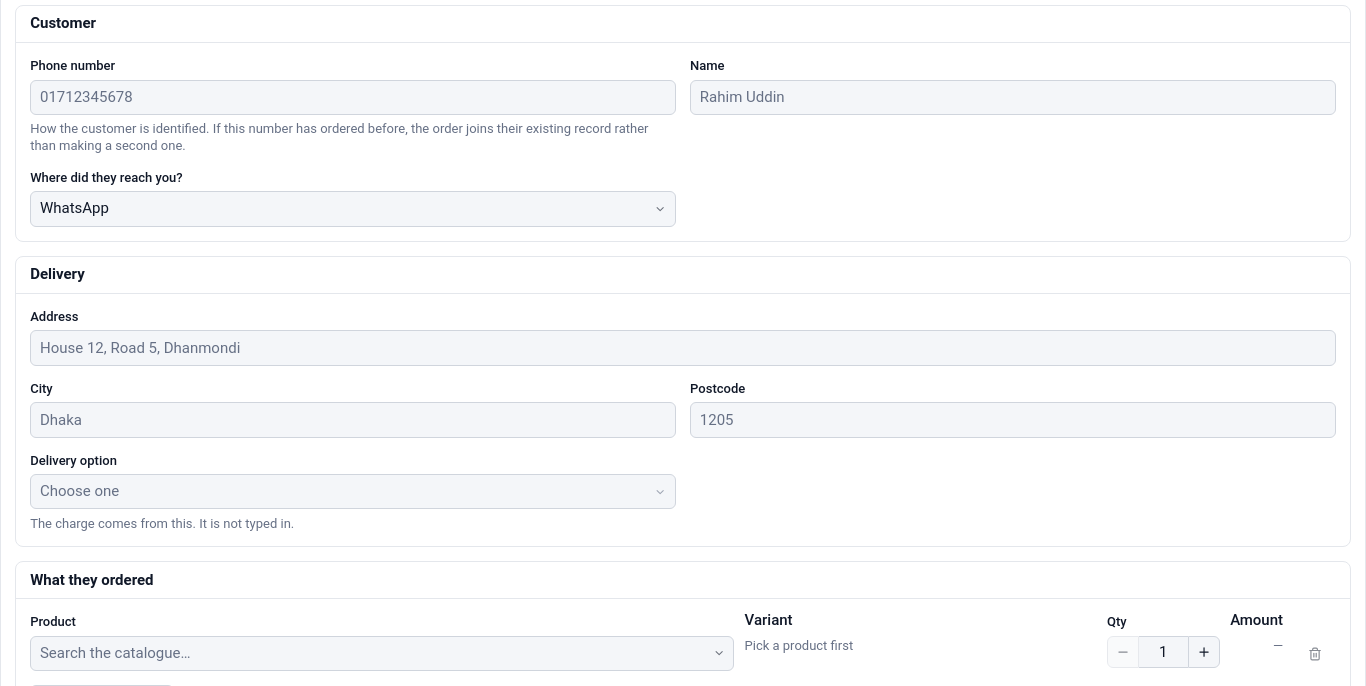
Test: OrderCreatePage — the total is the server's, not the page's › renders the quoted figures rather than computing them
Click the dropdown named "product for line 1": click(115, 653) [30,636,734,671]
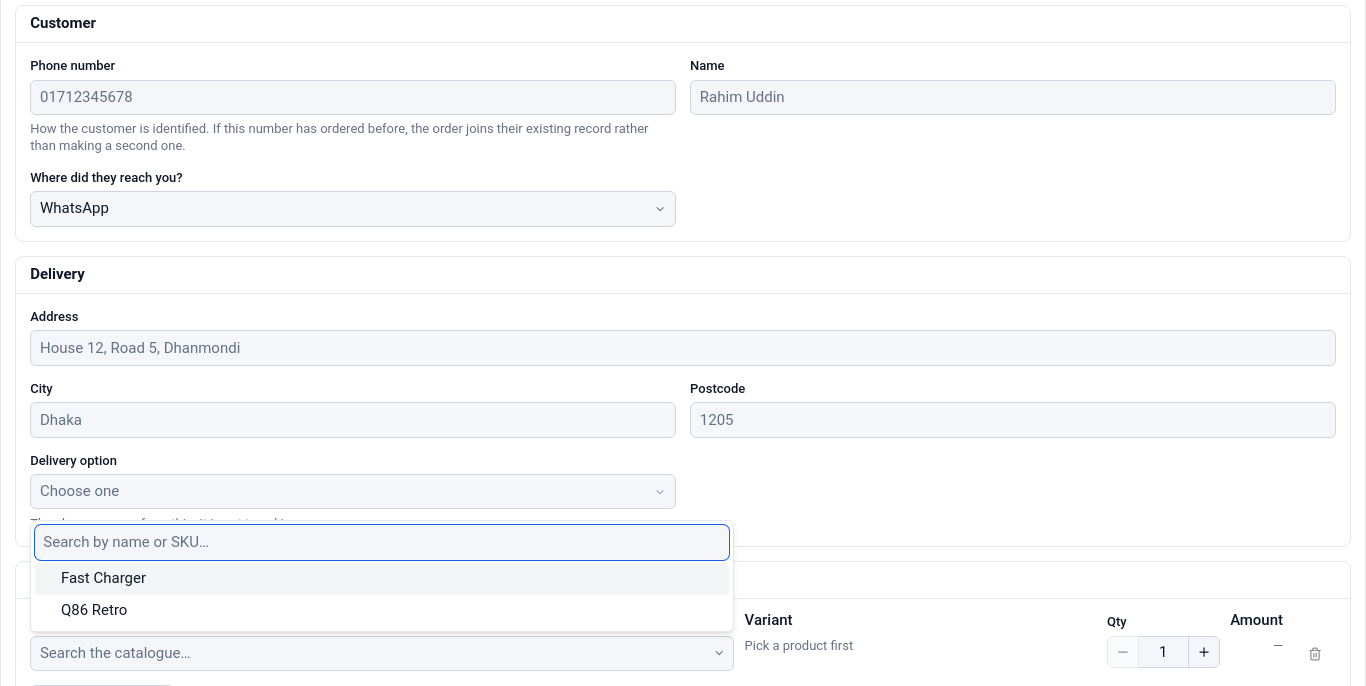
Click the option "Fast Charger": click(103, 578) [34,563,729,595]
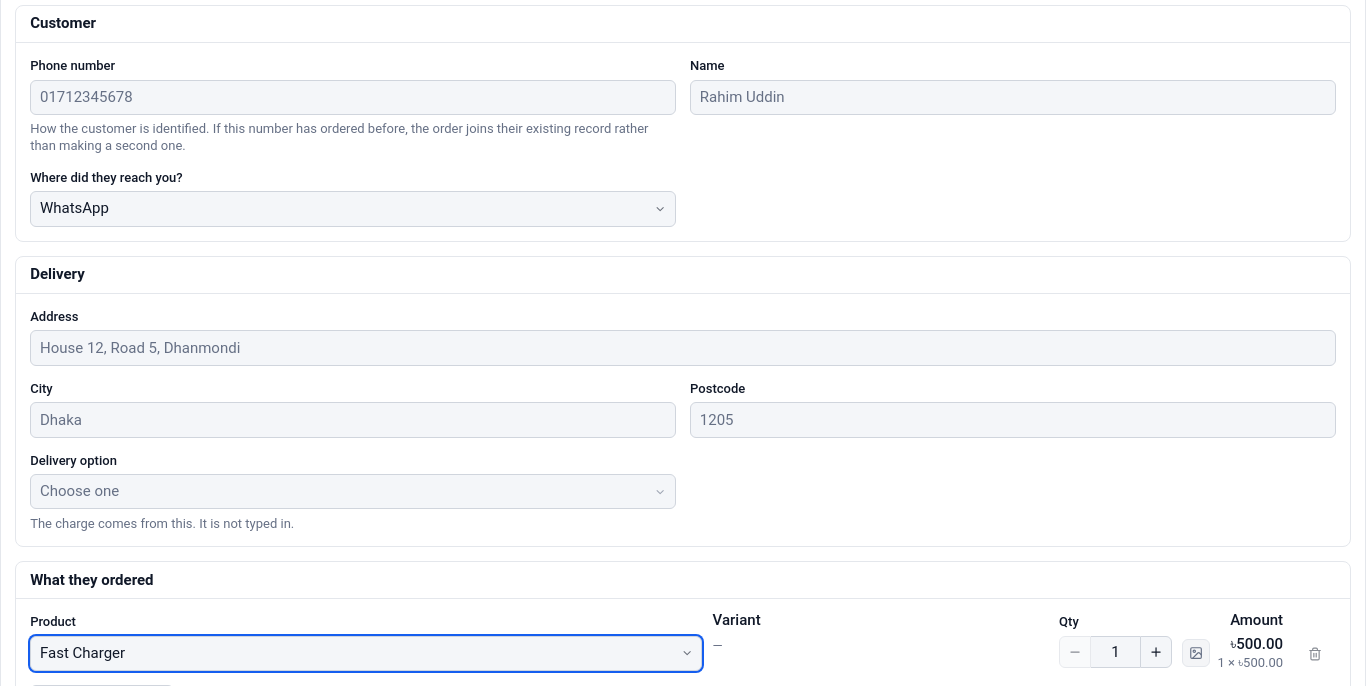
Click the dropdown named "delivery option": click(80, 491) [30,474,676,509]
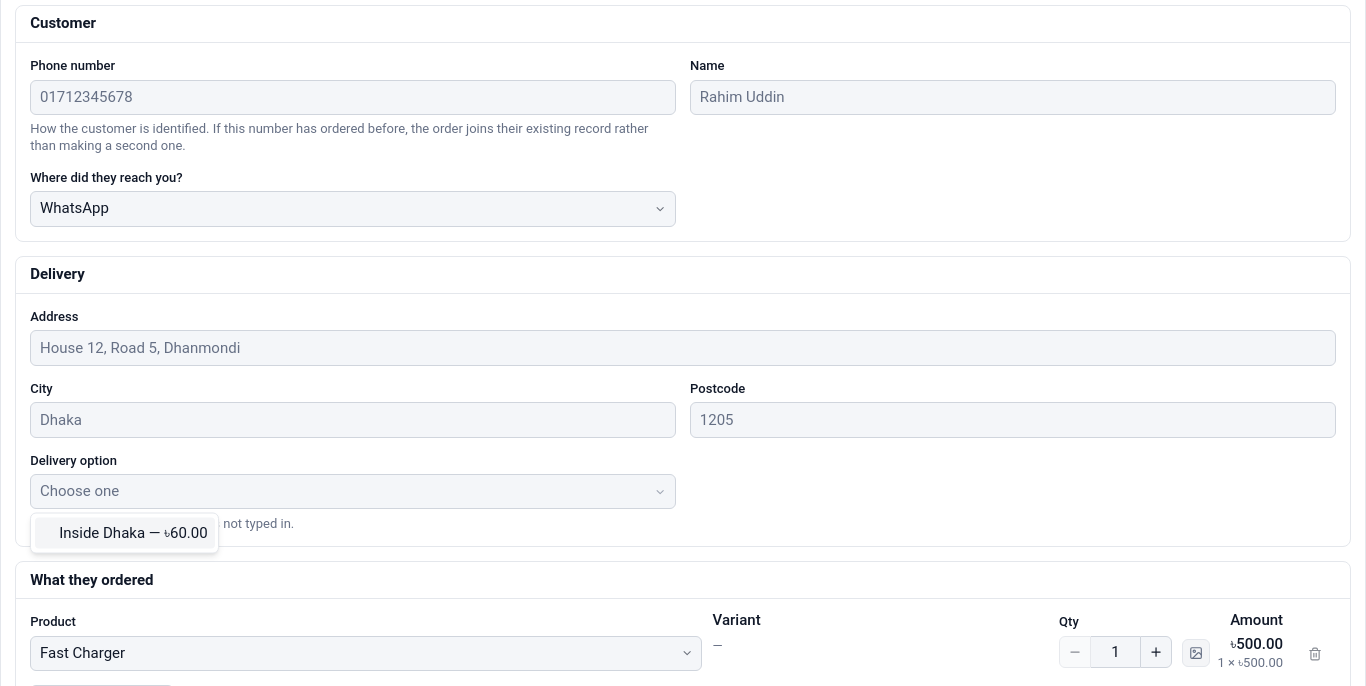
Click the option "Inside Dhaka — ৳60.00": click(125, 533) [34,517,215,549]
(page scrolled)
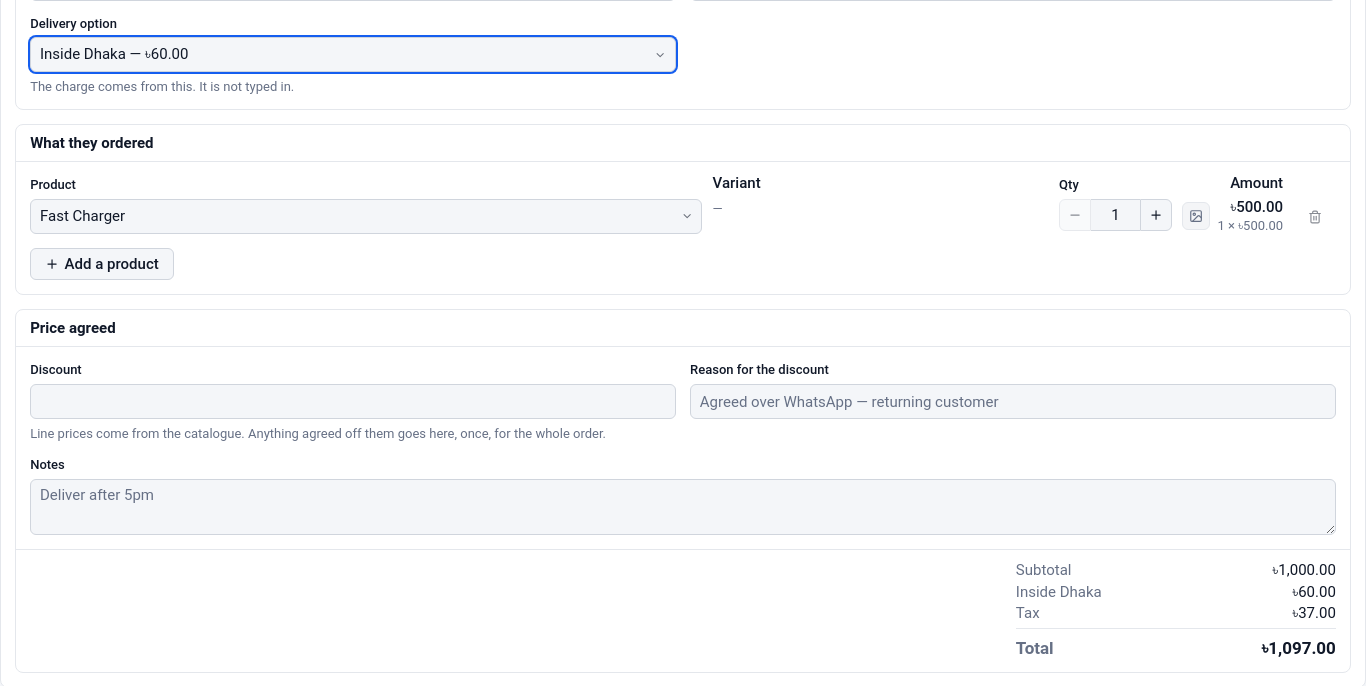
Now the text "৳1,097.00" is shown, box [1262,636,1336,662]
Now the text "Total" is shown, box [1016,636,1054,662]
